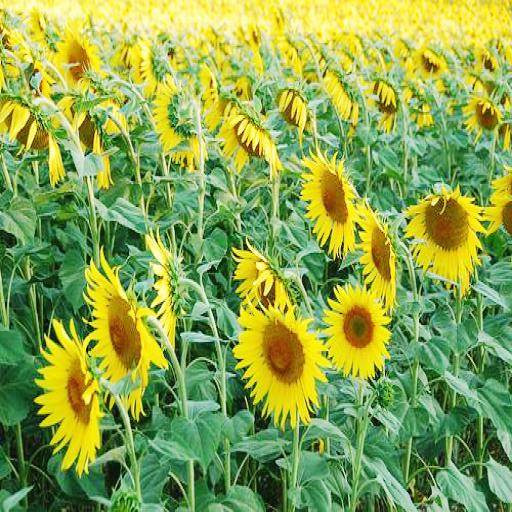sunflower: (83, 253, 168, 421), (232, 299, 328, 428), (36, 319, 101, 472), (404, 188, 492, 290), (300, 150, 356, 261), (325, 285, 391, 379), (352, 198, 400, 304), (148, 233, 188, 348), (219, 109, 282, 181), (52, 24, 100, 100), (76, 104, 110, 189), (364, 72, 398, 135)
